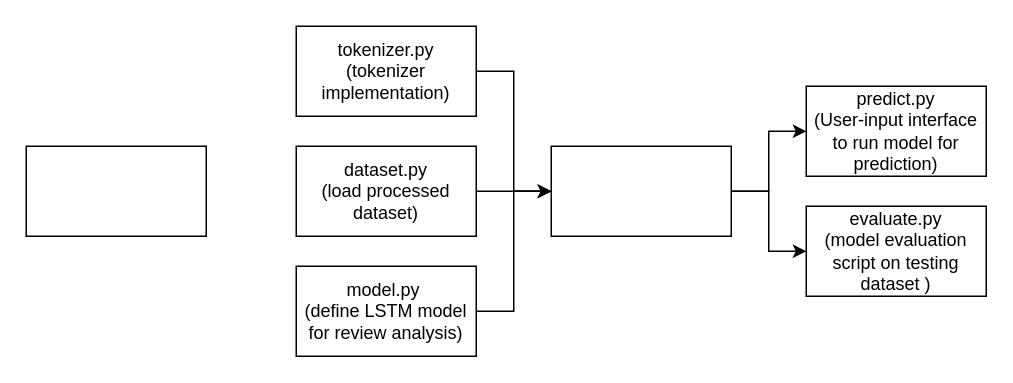
Some shapes in this 1013 by 383 pixel diagram are drawn without their labels. Each missing label, with the box of its shape:
process.py (data preprocessing): (25, 145, 206, 236)
train.py (training script): (550, 145, 731, 236)
